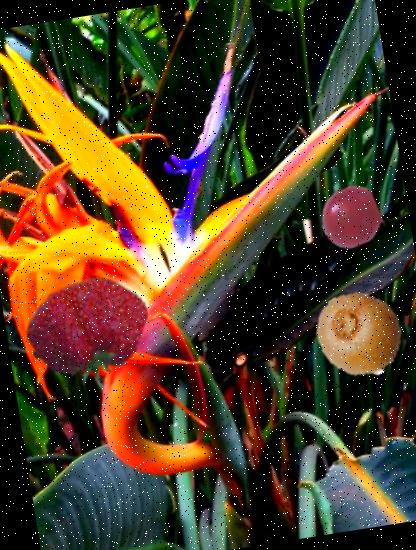Kiwi: (310, 282, 412, 384)
Redcurrant: (316, 182, 387, 252)
Strawberry: (20, 258, 162, 400)
